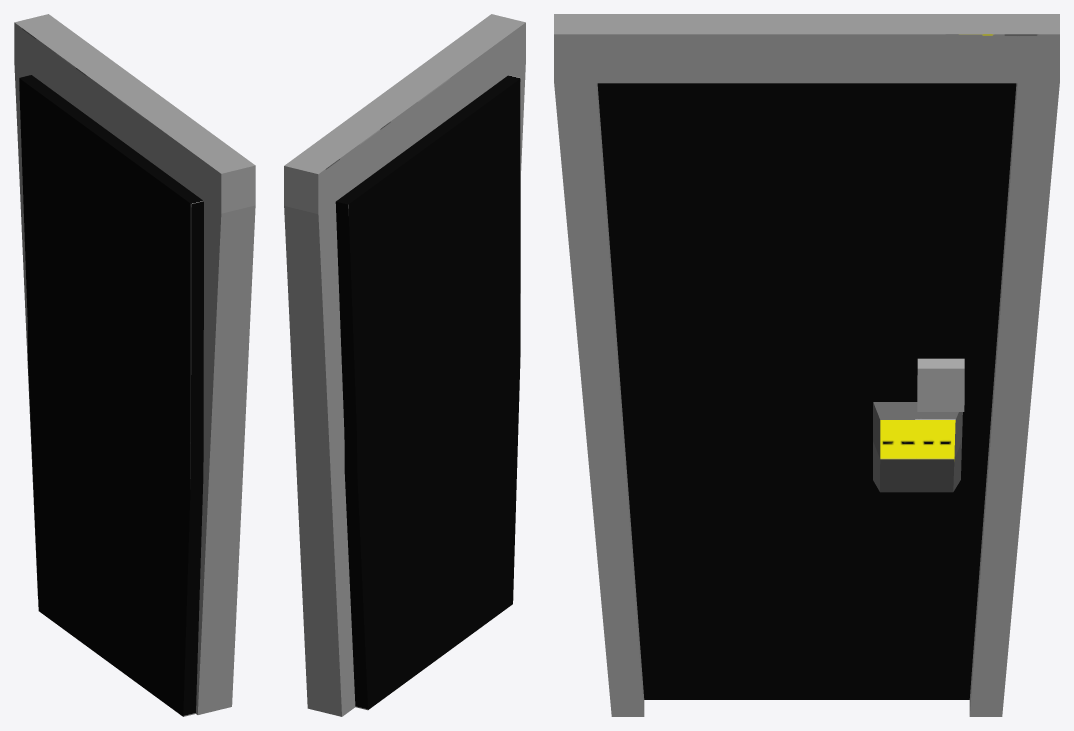
File: coded door.fbx
3 views of the same model, side by side, from view 1: azimuth 30°, elevation 25°; view 2: azimuth 150°, elevation 25°; view 3: azimuth 270°, elevation 25° (orthographic). The views are drawn at different scales.
Visible parts, largest first — view 1: coded door, coded doorframe; view 2: coded door, coded doorframe; view 3: coded door, coded doorframe.
Boxes of the visible parts, <box> form: coded door: <box>19,75,203,716</box>; coded doorframe: <box>14,14,255,714</box>; coded door: <box>335,75,521,710</box>; coded doorframe: <box>284,14,525,716</box>; coded door: <box>597,83,1016,699</box>; coded doorframe: <box>554,14,1059,716</box>.
Bounding box in the file's own units: 19.79 × 216 × 145.
Materials: 2 (2 with a texture image).
